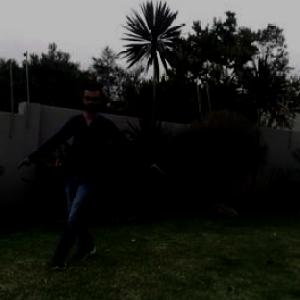land: (27, 83, 168, 256)
